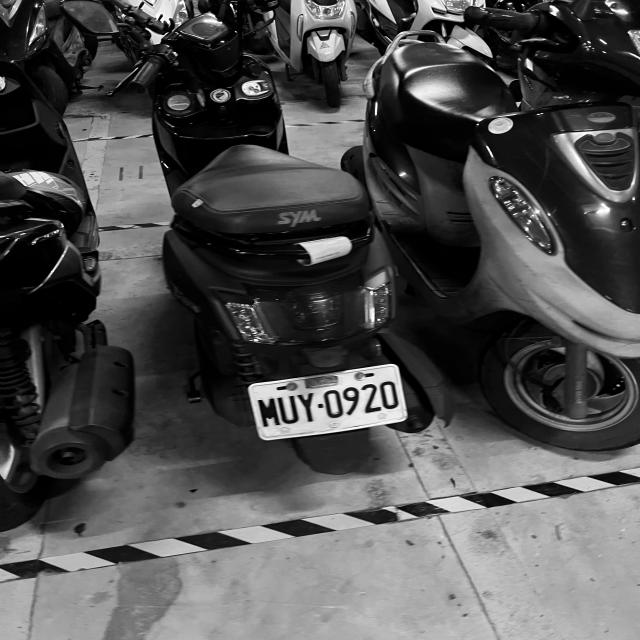-: (316, 403, 324, 409)
0: (377, 379, 400, 411), (322, 389, 346, 419)
2: (359, 383, 385, 413)
9: (341, 386, 362, 416)
M: (256, 396, 282, 430)
U: (275, 394, 303, 426)
Y: (296, 390, 320, 423)
plate: (250, 368, 406, 438)
